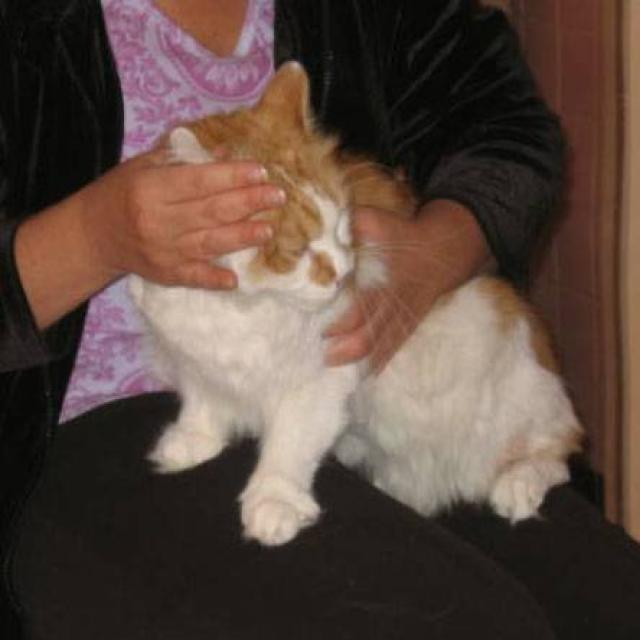cat: (125, 58, 586, 546)
